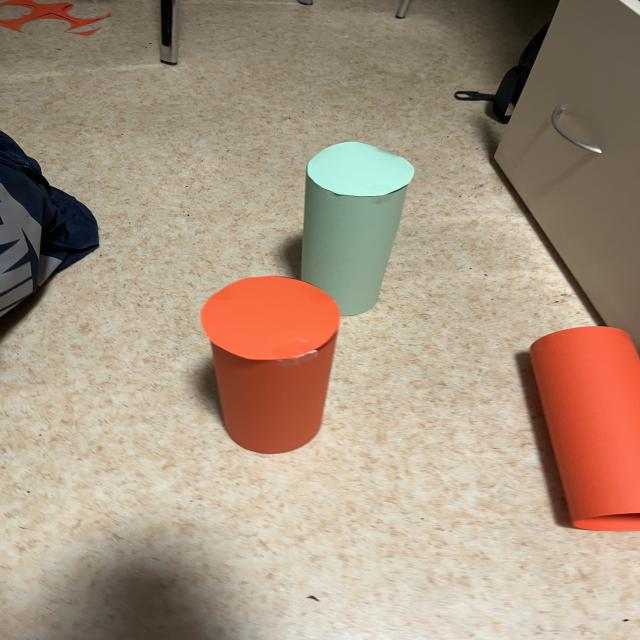meta: (300, 142, 414, 316)
przeszkoda: (200, 276, 341, 454), (530, 327, 640, 531)
